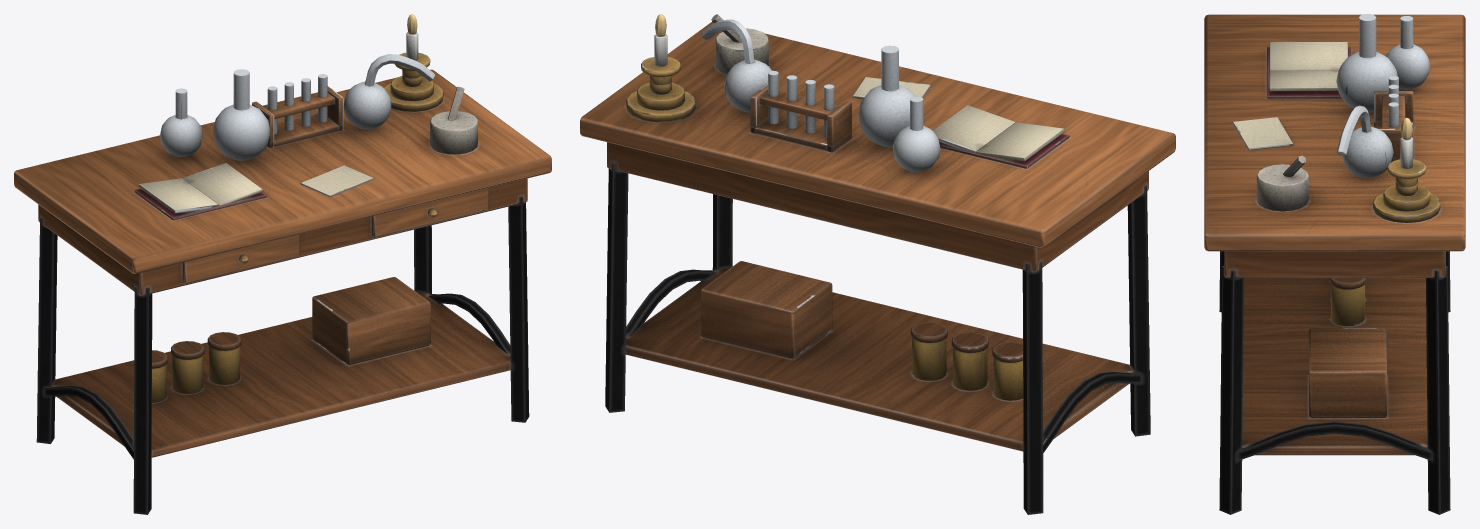
Rendered from AlchemyTable.fbx.
3 renders of one model, left to right at view 1: azimuth 30°, elevation 25°; view 2: azimuth 150°, elevation 25°; view 3: azimuth 270°, elevation 25°, orthographic. The views are drawn at different scales.
Parts seen in each view (by area): view 1: AlchemyTable_Main, AlchemyTable_Glass; view 2: AlchemyTable_Main, AlchemyTable_Glass; view 3: AlchemyTable_Main, AlchemyTable_Glass.
Part boxes in pixels (x1,y1,x2,y2): AlchemyTable_Main: (14,32,551,514); AlchemyTable_Glass: (160,54,434,160); AlchemyTable_Main: (580,14,1175,514); AlchemyTable_Glass: (702,19,940,172); AlchemyTable_Main: (1204,14,1465,514); AlchemyTable_Glass: (1336,14,1430,178).
Bounding box in the file's own units: 400 × 321 × 200.
